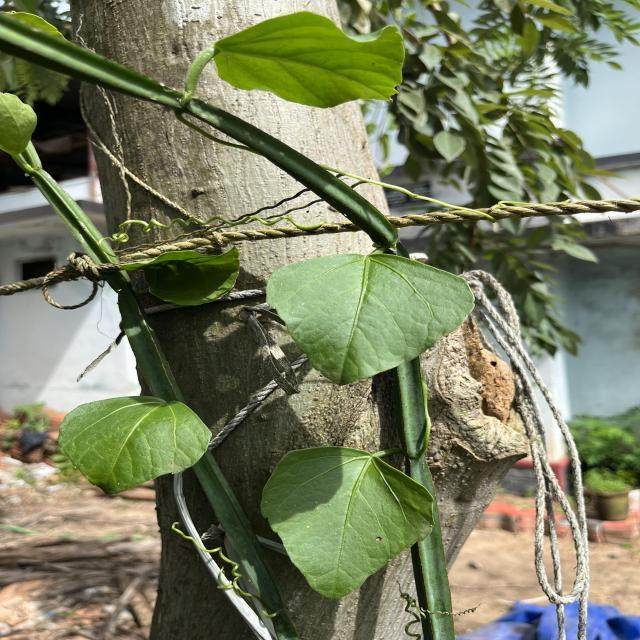Cissus quadrangularis: (262, 249, 478, 389), (255, 442, 438, 602), (54, 393, 215, 498)
